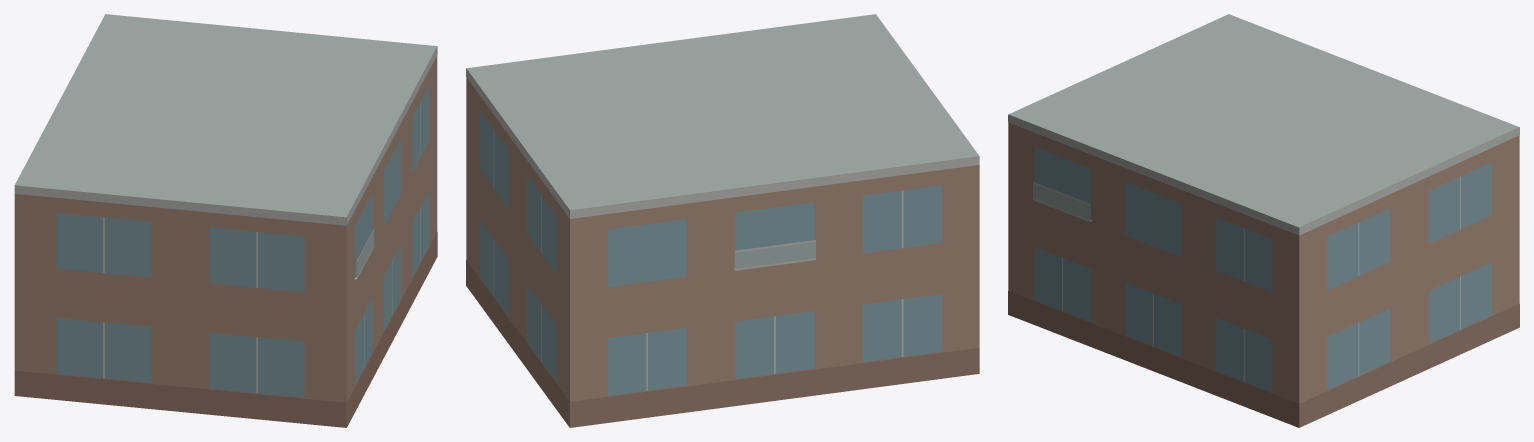
Rendered from survey-upis-32966080.glb.
3 views of the same model, side by side, from view 1: azimuth 30°, elevation 25°; view 2: azimuth 150°, elevation 25°; view 3: azimuth 270°, elevation 25° (orthographic). The views are drawn at different scales.
Visible parts, largest first — view 1: survey-upis-32966080.tmp; view 2: survey-upis-32966080.tmp; view 3: survey-upis-32966080.tmp.
Part boxes in pixels (left/top/right/bottom): survey-upis-32966080.tmp: left=14, top=14, right=437, bottom=427; survey-upis-32966080.tmp: left=466, top=14, right=979, bottom=427; survey-upis-32966080.tmp: left=1008, top=14, right=1519, bottom=427.
Size of the model in its own units: 13.95 by 6.1 by 14.12.
